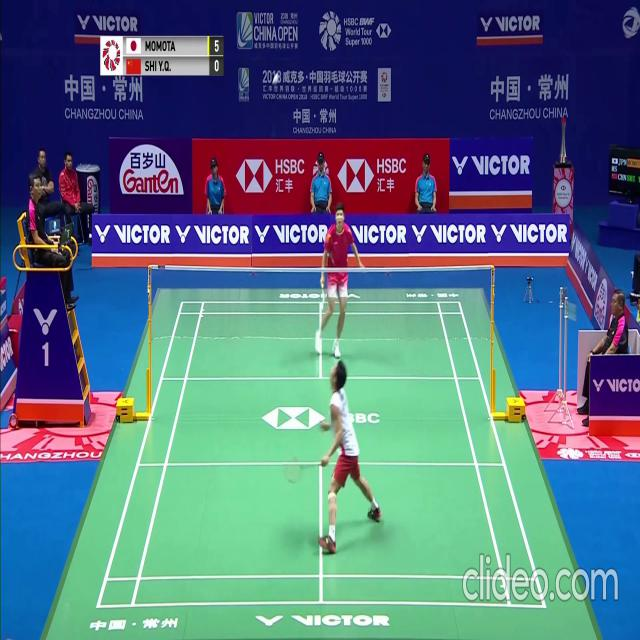Shuttlecock: (273, 75, 278, 83)
